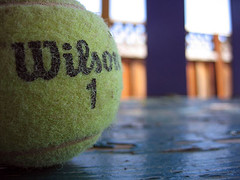tennis ball: (1, 1, 125, 170)
